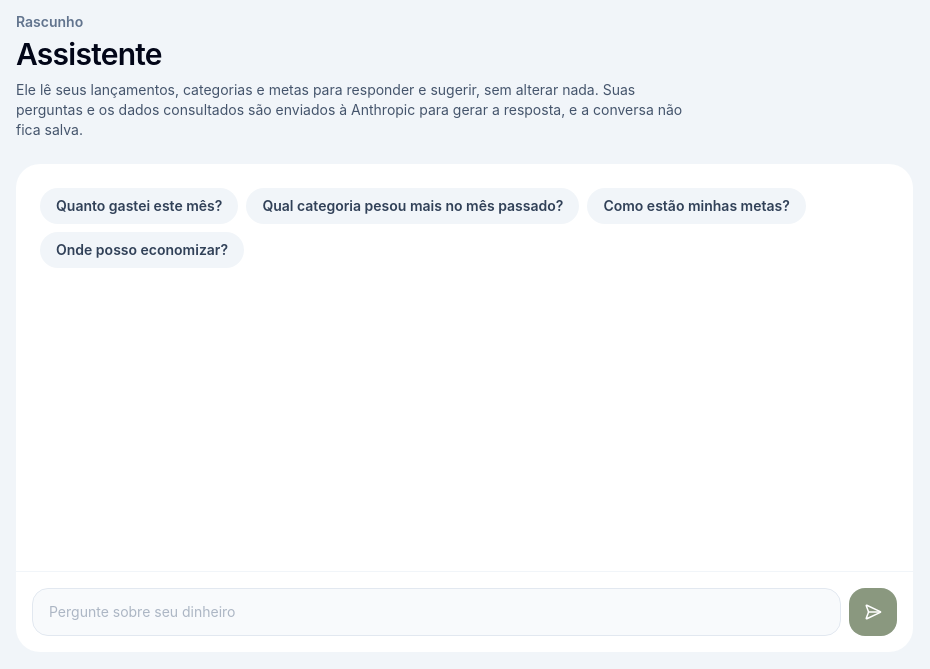
AssistantPage › envia uma sugestão com um clique
The width and height of the screenshot is (930, 669).
Click the button "Como estão minhas metas?" at [697, 206], box [587,188,806,224]
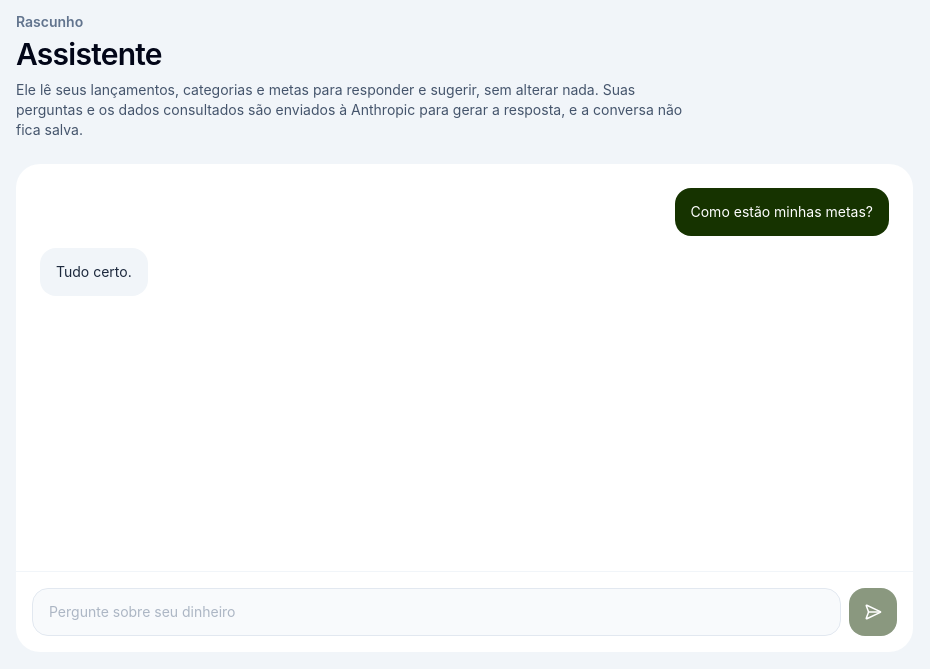
Now the text "Tudo certo." is shown, box [40,248,148,296]
Now the button "Onde posso economizar?" is gone
